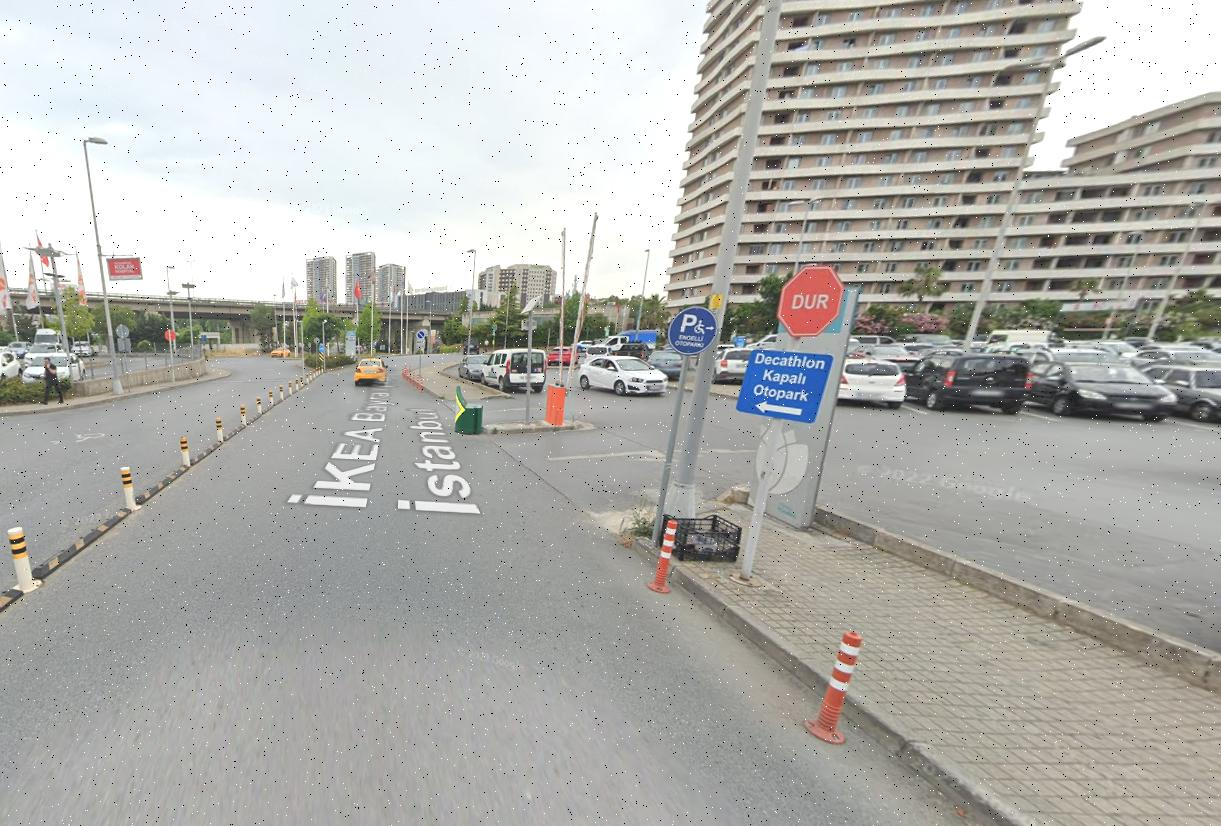disabledpark: (667, 307, 718, 352)
stop: (779, 262, 844, 339)
